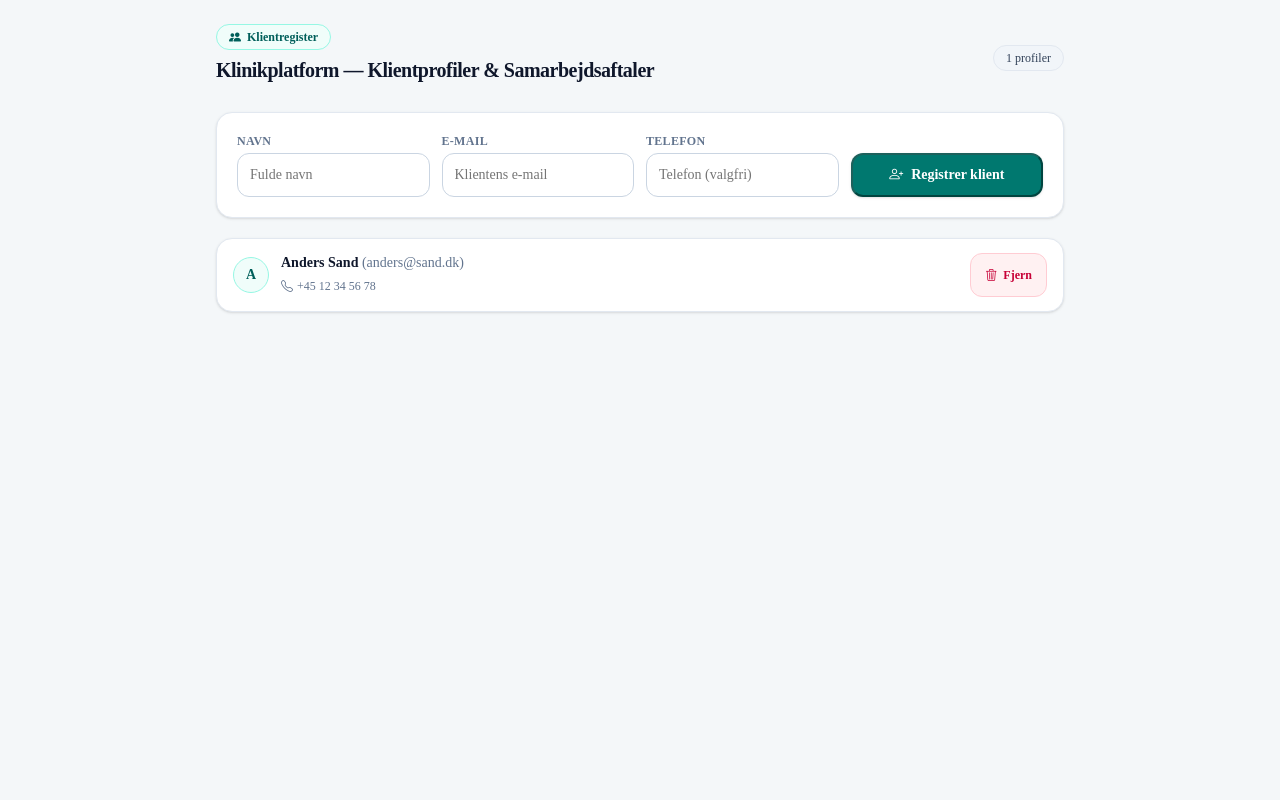
it: ClinicPlatformFeature Vertical Slice › renders client profiles, registers a new client, and removes a client (Happy Path)
Expected: the text "Anders Sand" is shown, [281,255,358,270]
Type "Mette Lind" into the field with test id "input-client-fullName" at (333, 175), box [237,153,430,197]
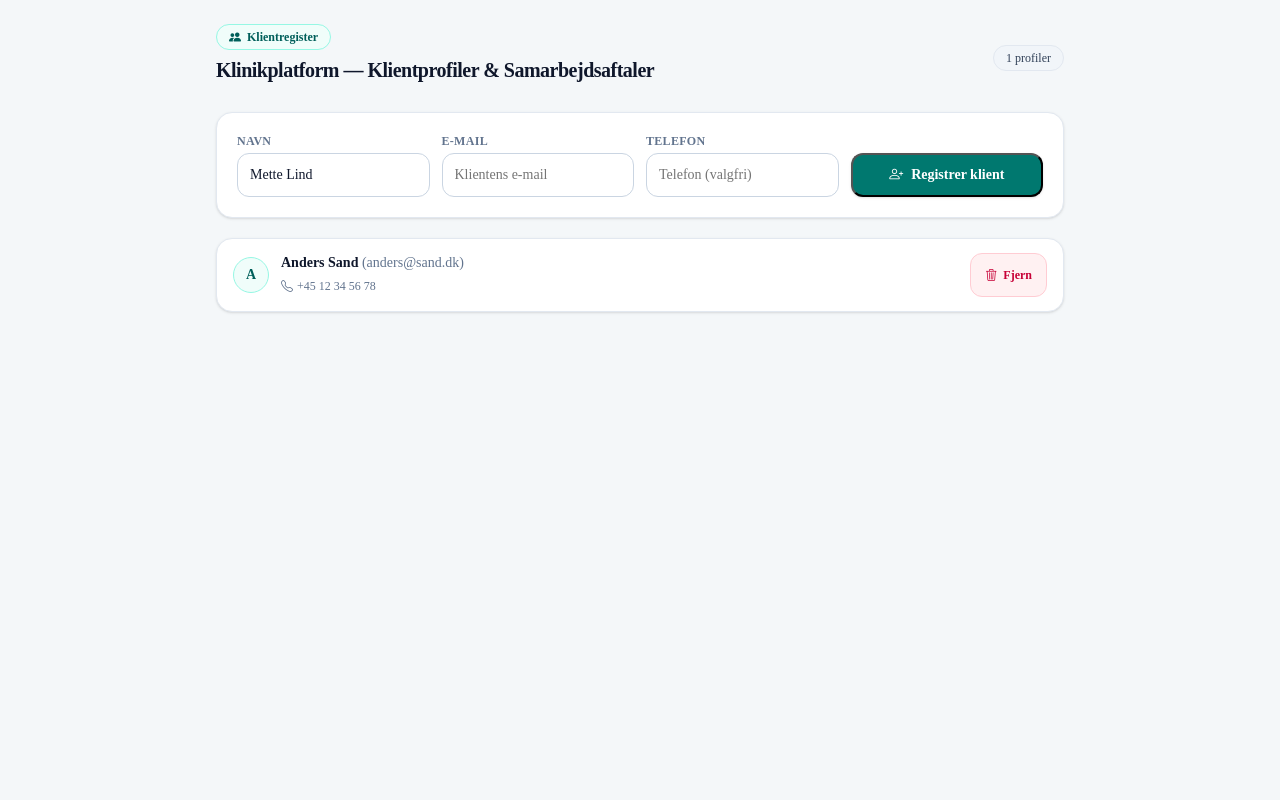
Type "mette@lind.dk" into the field with test id "input-client-email" at (538, 175), box [442,153,634,197]
Type "+45 87 65 43 21" into the field with test id "input-client-phone" at (742, 175), box [646,153,838,197]
Click the button with test id "submit-clinic-client" at (947, 175), box [850,153,1043,197]
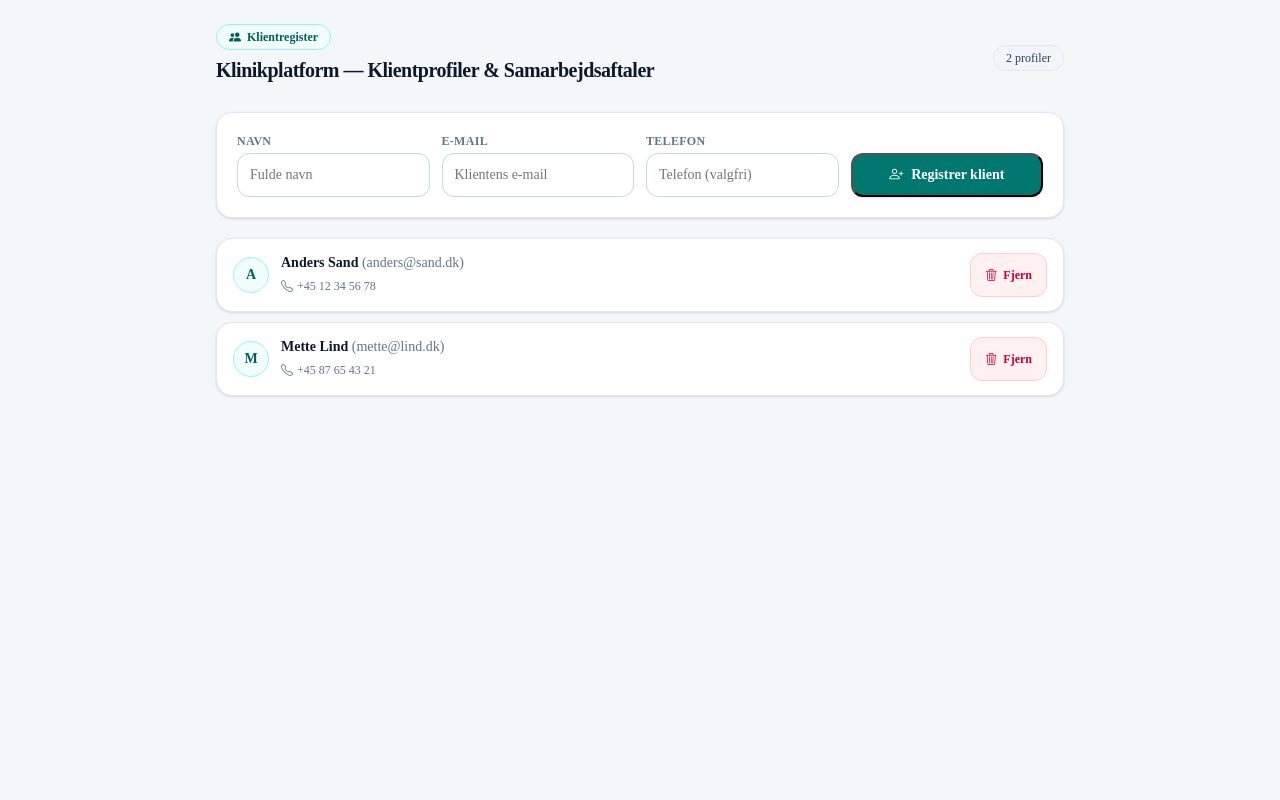
Expected: the text "Mette Lind" is shown, [281,339,348,354]
Click the button with test id "delete-clinic-client-c-2" at (1009, 359), box [970,337,1047,381]
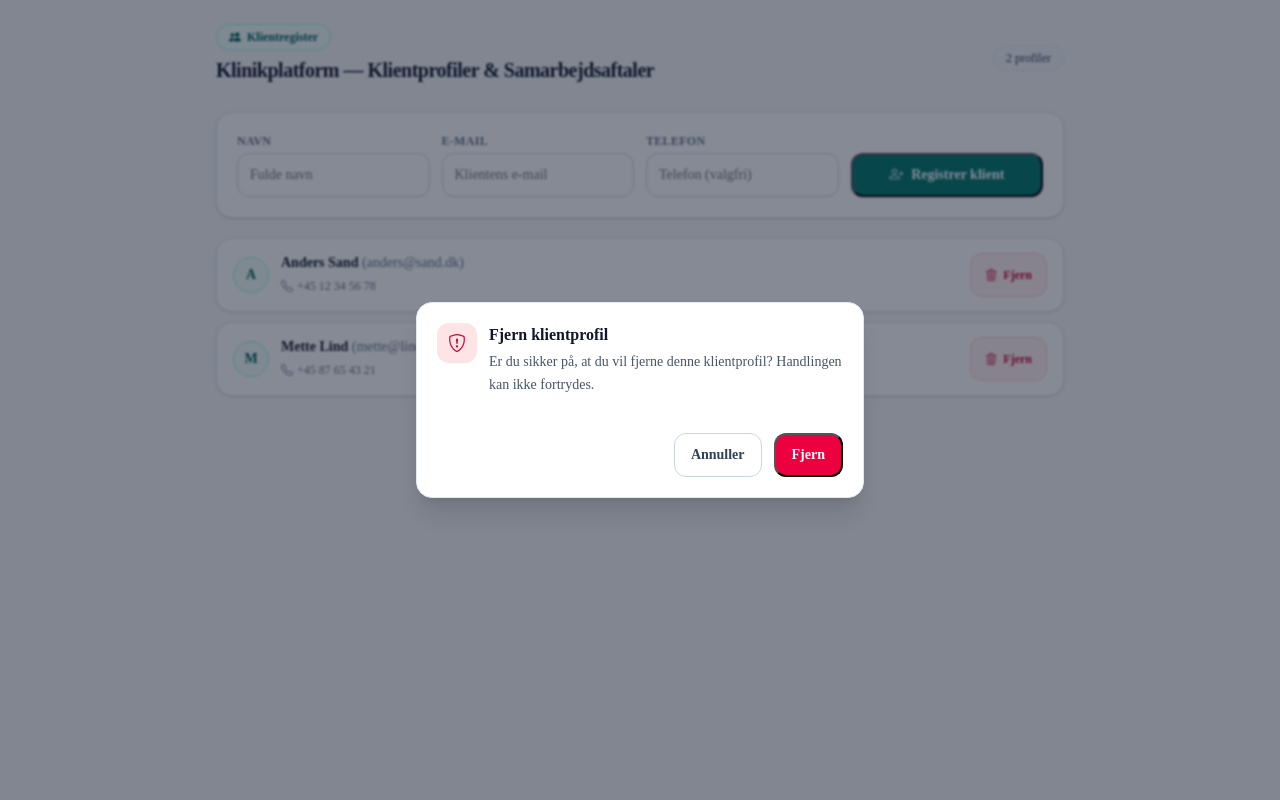
Expected: the dialog with test id "confirm-action-dialog" is shown
Click the button with test id "confirm-action-cancel" at (718, 455), box [674,433,762,477]
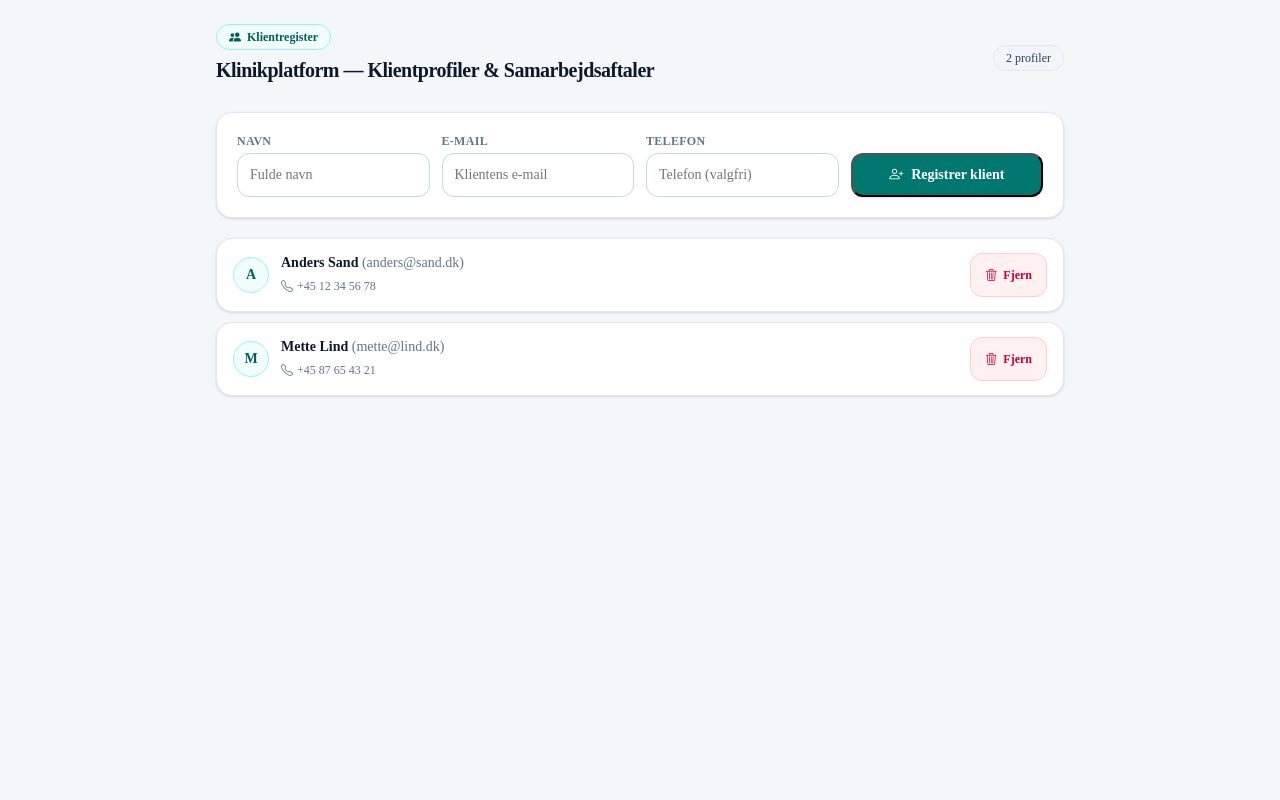
Expected: the text "Mette Lind" is shown, [281,339,348,354]
Click the button with test id "delete-clinic-client-c-2" at (1009, 359), box [970,337,1047,381]
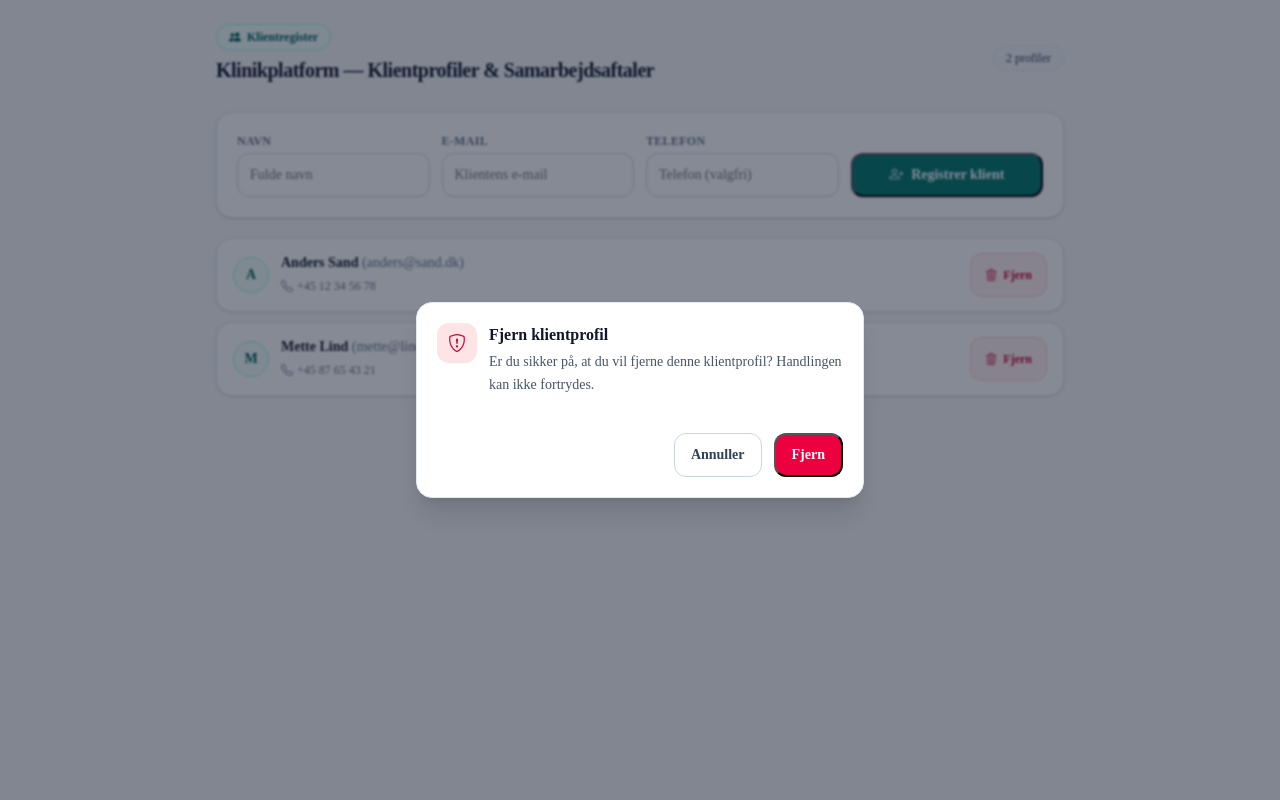
Click the button with test id "confirm-action-accept" at (808, 455), box [774,433,843,477]
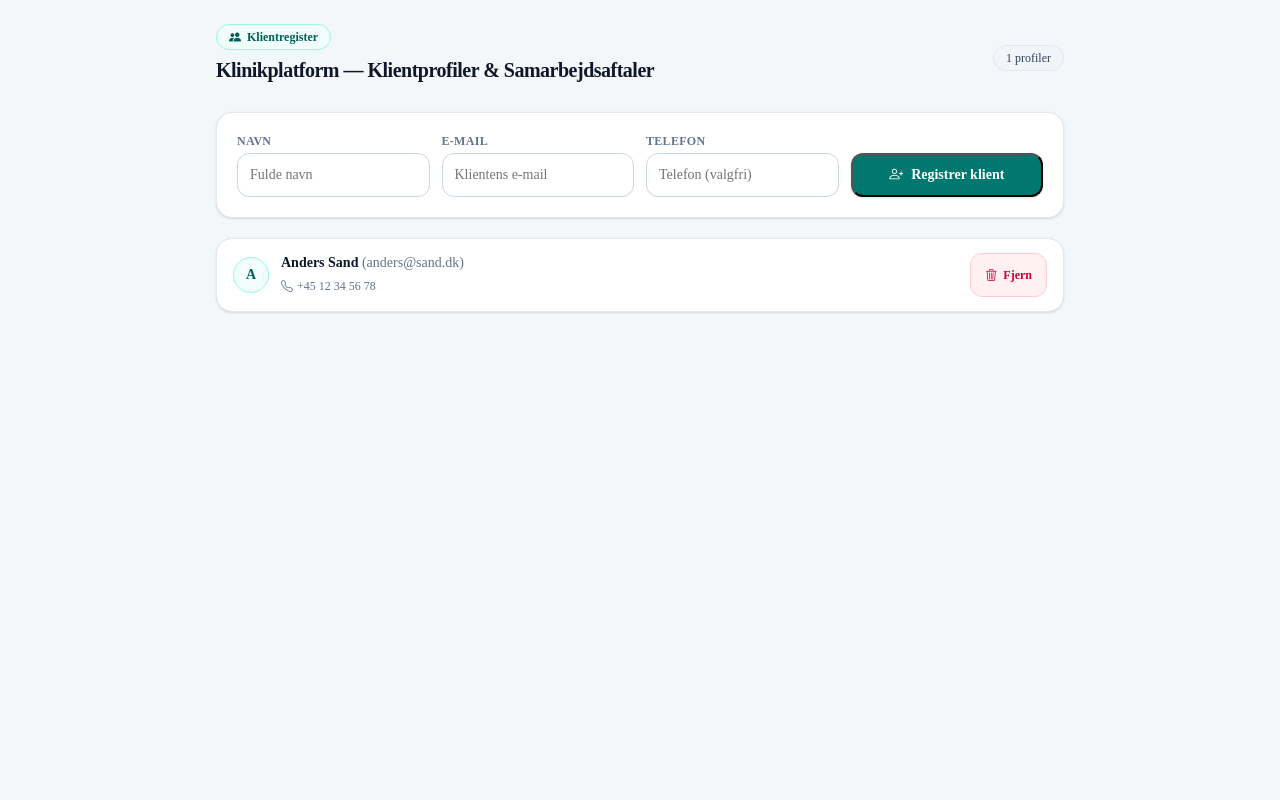
Expected: the text "Mette Lind" is gone
